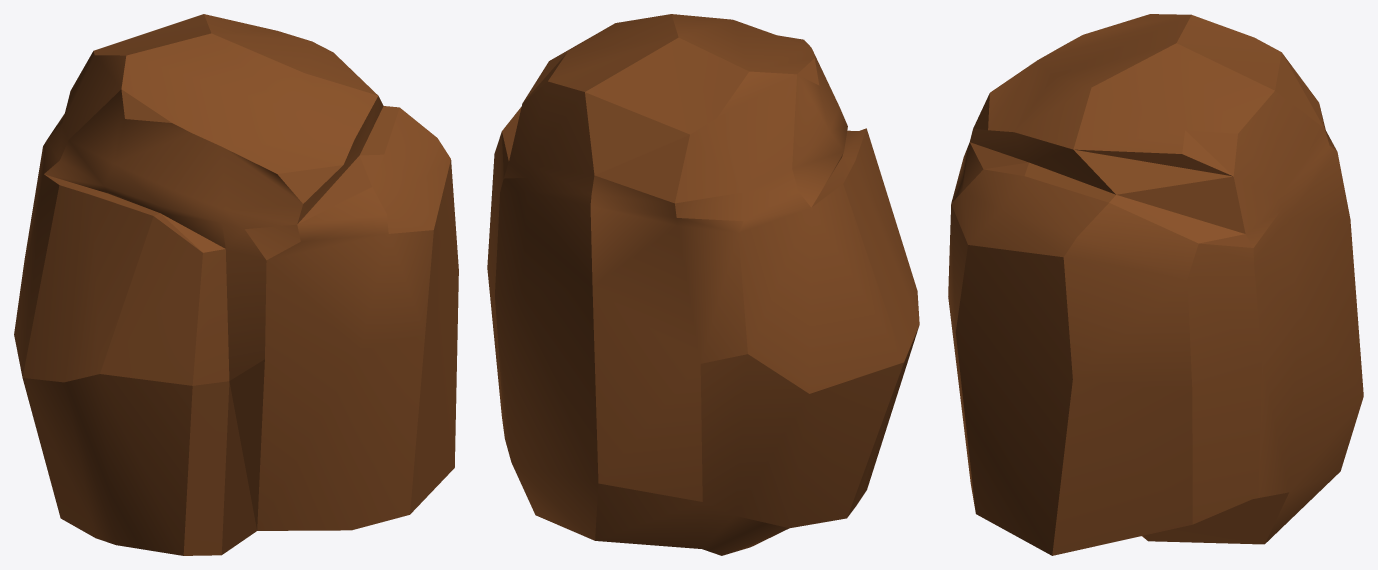
The model's file is Rock_3_Cube.obj.
The picture shows the model from 3 angles, left to right: view 1: azimuth 30°, elevation 25°; view 2: azimuth 150°, elevation 25°; view 3: azimuth 270°, elevation 25°; orthographic projection. The views are drawn at different scales.
Visible parts, largest first — view 1: Rock_3_Cube.024; view 2: Rock_3_Cube.024; view 3: Rock_3_Cube.024.
Boxes of the visible parts, x1=… form: Rock_3_Cube.024: x1=14, y1=14, x2=458, y2=555; Rock_3_Cube.024: x1=487, y1=14, x2=919, y2=555; Rock_3_Cube.024: x1=948, y1=14, x2=1363, y2=555.
Bounding box in the file's own units: 3.3 × 3.83 × 3.01.
